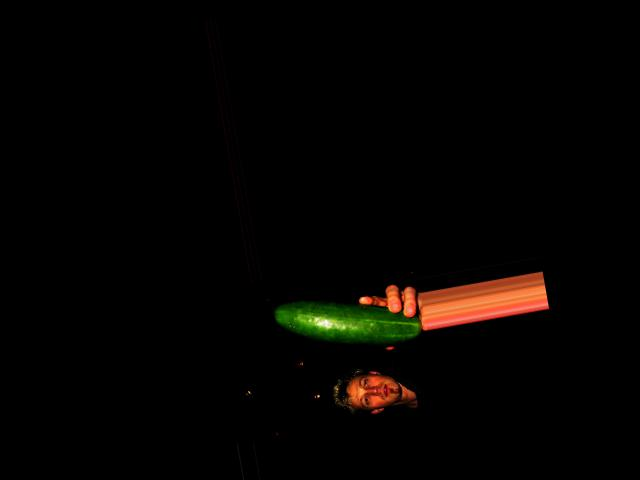cucumber: (272, 280, 422, 362)
